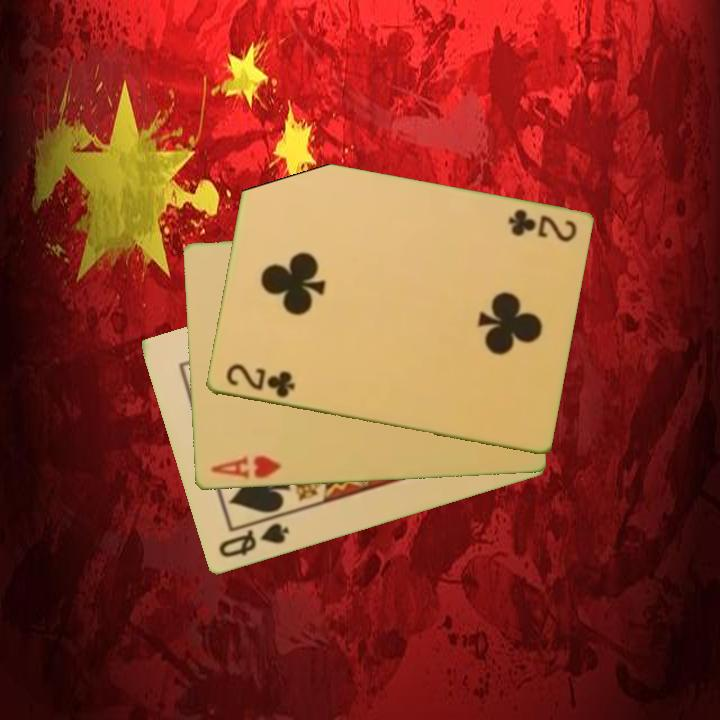2c: (222, 360, 298, 402), (504, 206, 580, 246)
Ah: (207, 453, 284, 482)
Qs: (214, 520, 293, 561)
